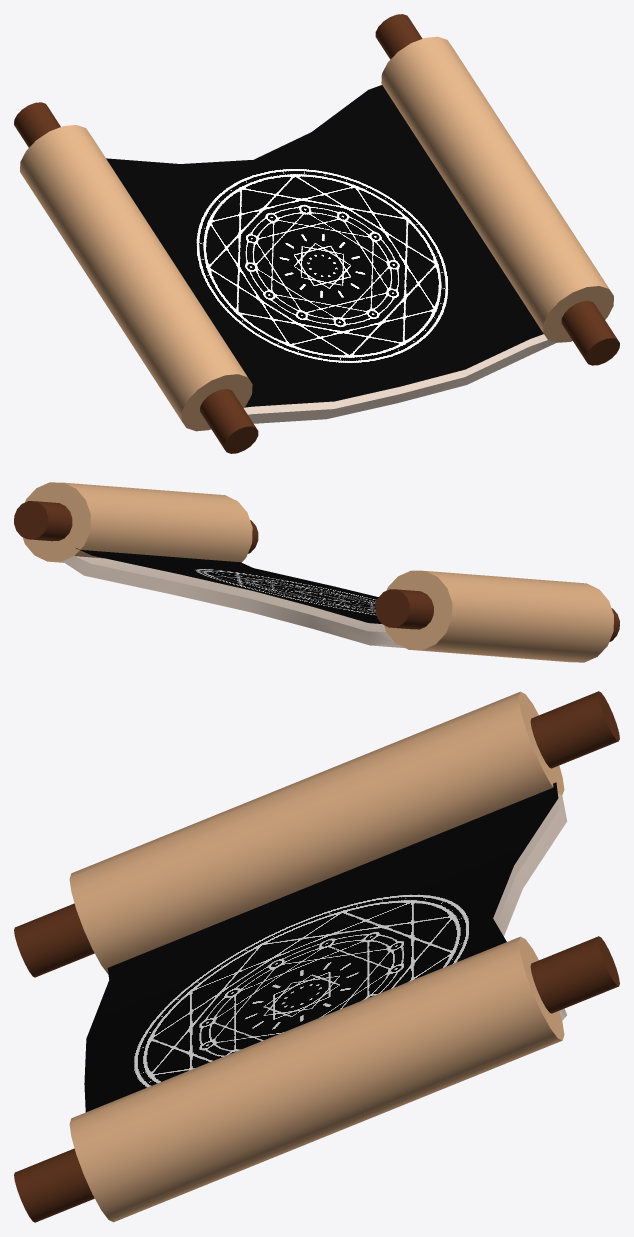
Rendered from MoveScroll.fbx.
3 views of the same model, one above another, from view 1: azimuth 30°, elevation 25°; view 2: azimuth 150°, elevation 25°; view 3: azimuth 270°, elevation 25° (orthographic). The views are drawn at different scales.
Parts seen in each view (by area): view 1: Cylinder.001, Cylinder; view 2: Cylinder, Cylinder.001; view 3: Cylinder, Cylinder.001.
Part boxes in pixels (x1,y1,x2,y2): Cylinder.001: [106, 85, 543, 407]; Cylinder: [14, 14, 619, 453]; Cylinder: [14, 482, 619, 662]; Cylinder.001: [76, 548, 381, 623]; Cylinder: [14, 691, 619, 1222]; Cylinder.001: [84, 782, 558, 1112].
Bounding box in the file's own units: 281 × 132 × 246.
